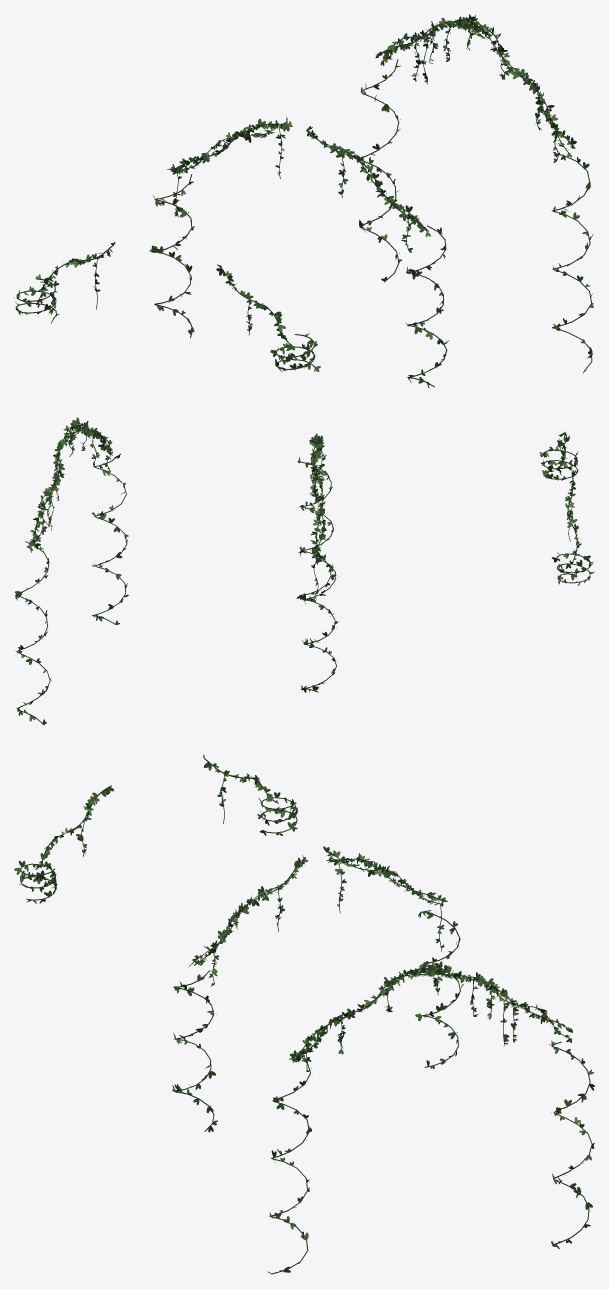
File: vines-ivy-jasmine.glb
3 views of the same model, one above another, from view 1: azimuth 30°, elevation 25°; view 2: azimuth 150°, elevation 25°; view 3: azimuth 270°, elevation 25° (orthographic). The views are drawn at different scales.
Parts seen in each view (by area): view 1: vines-ivy-jasmine; view 2: vines-ivy-jasmine; view 3: vines-ivy-jasmine.
Boxes of the visible parts, x1,y1,x2,y2 form: vines-ivy-jasmine: [14, 14, 594, 388]; vines-ivy-jasmine: [15, 417, 594, 725]; vines-ivy-jasmine: [14, 755, 594, 1274].
Size of the model in its own units: 310317 by 154453 by 271375.
